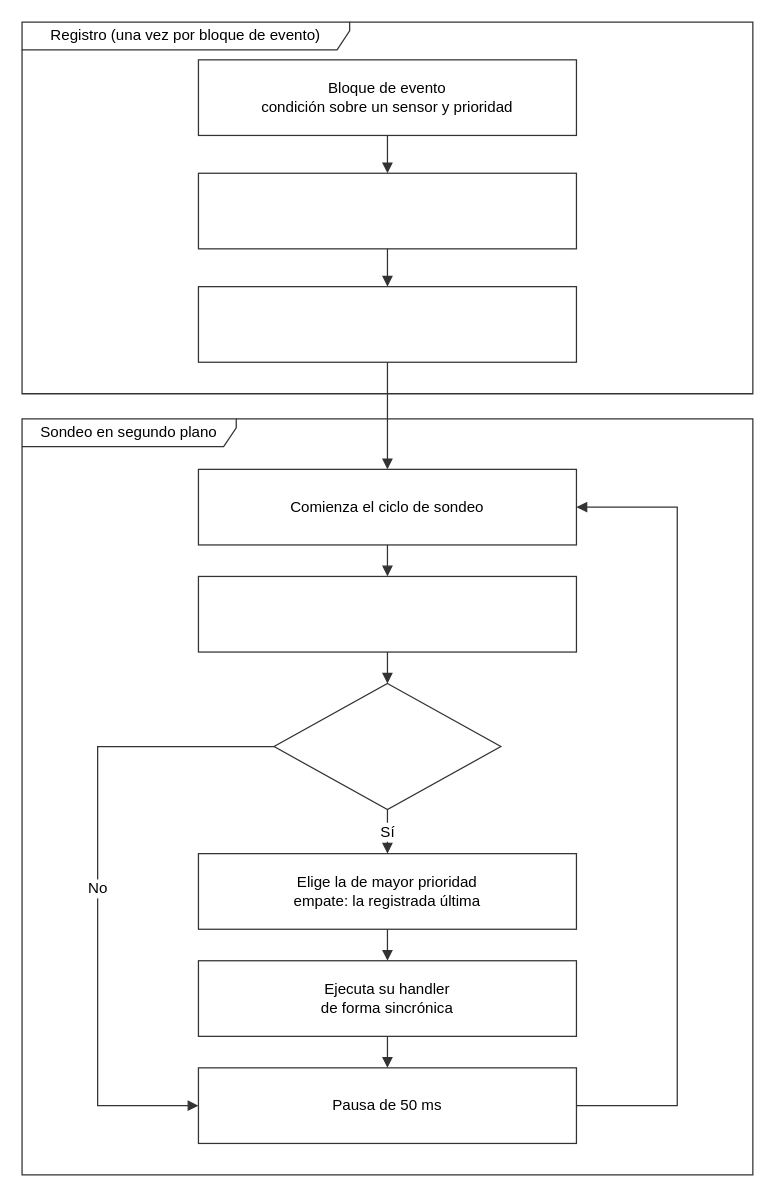
Some shapes in this 775 by 1197 pixel diagram are drawn without their labels. The centre of each missing label's shape, as x and y in pixels:
Evalúa la condición de todos los monitores: the point at 386,613
EventMonitor registra el monitor el primero inicia el sondeo: the point at 386,323
RobotBase arma el monitor condición · prioridad · handler: the point at 386,210
¿Se cumple alguna?: the point at 387,746
